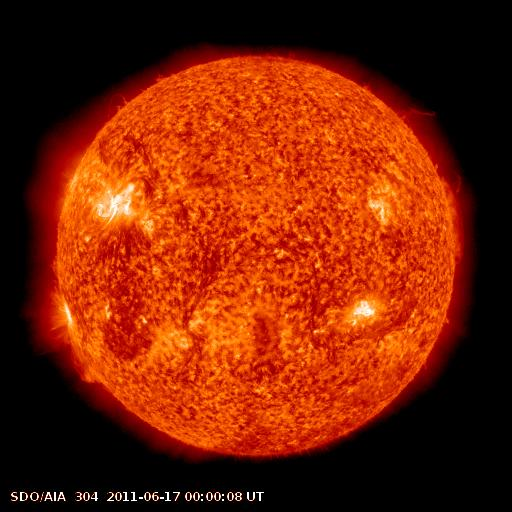prominence: (432, 156, 479, 262), (67, 347, 110, 393), (396, 99, 446, 132)
